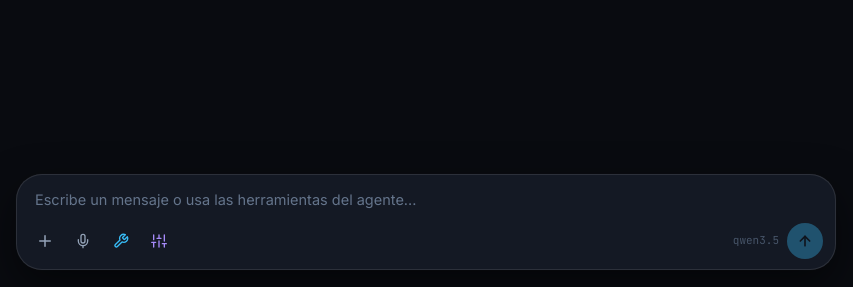
Test: Composer › toggles attach menu on plus button click
Click the button titled "Adjuntar y opciones": x=45, y=241 left=29, top=225, right=61, bottom=257
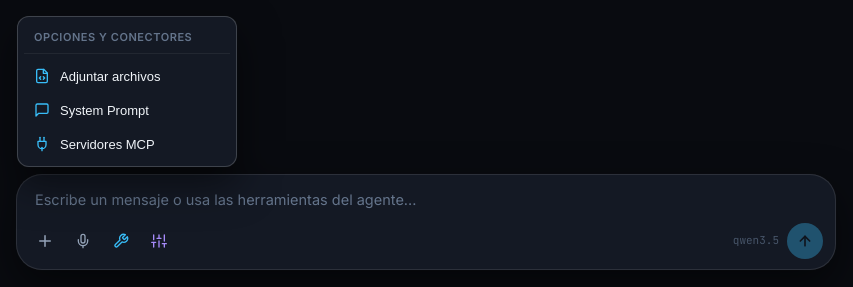
Result: the text "Adjuntar archivos" is shown at left=60, top=68, right=160, bottom=84
